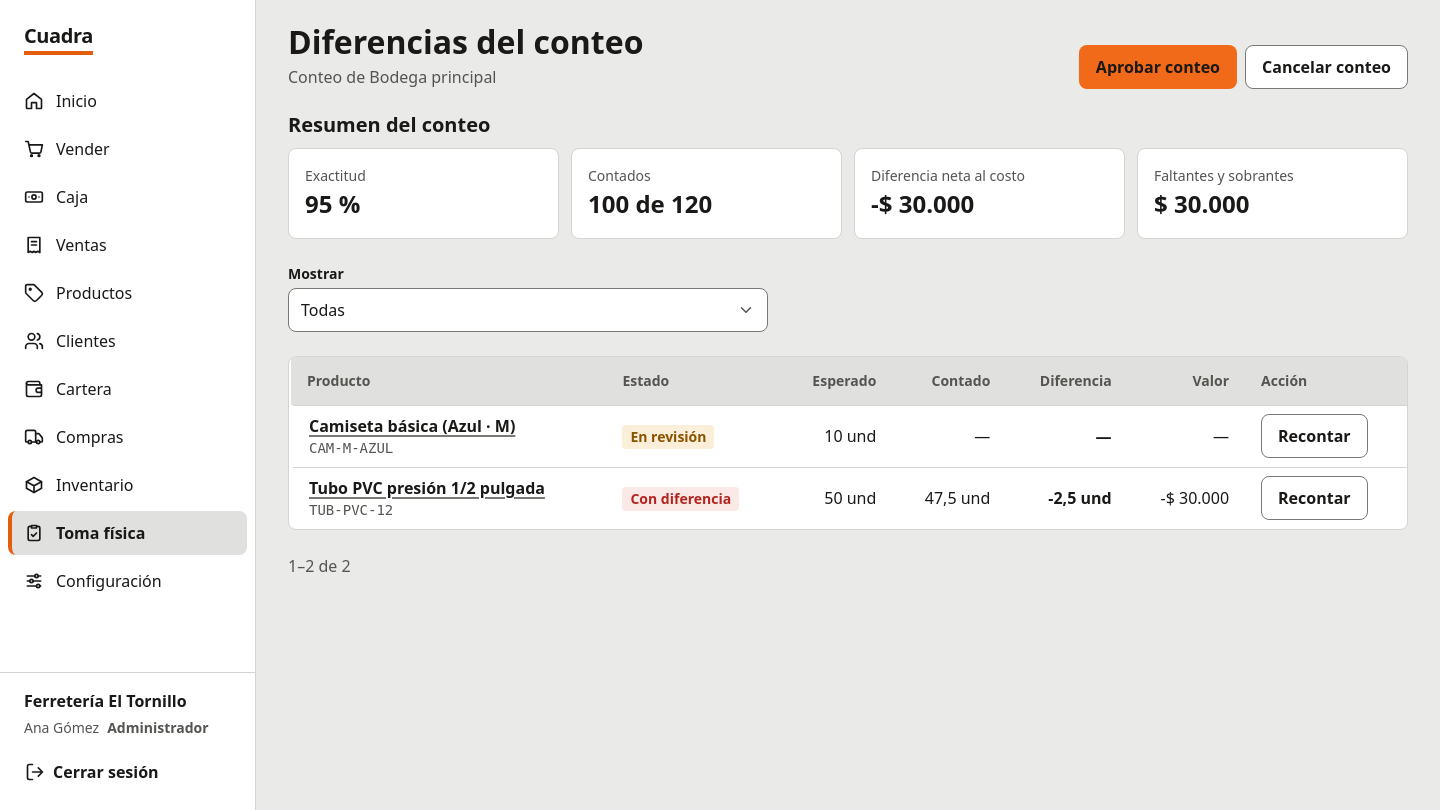
Scenario: CountReviewPage › aprobar con variantes en revisión muestra el error y no cierra
Click the button "Aprobar conteo".
click(1158, 67)  # box [1079,45,1237,89]
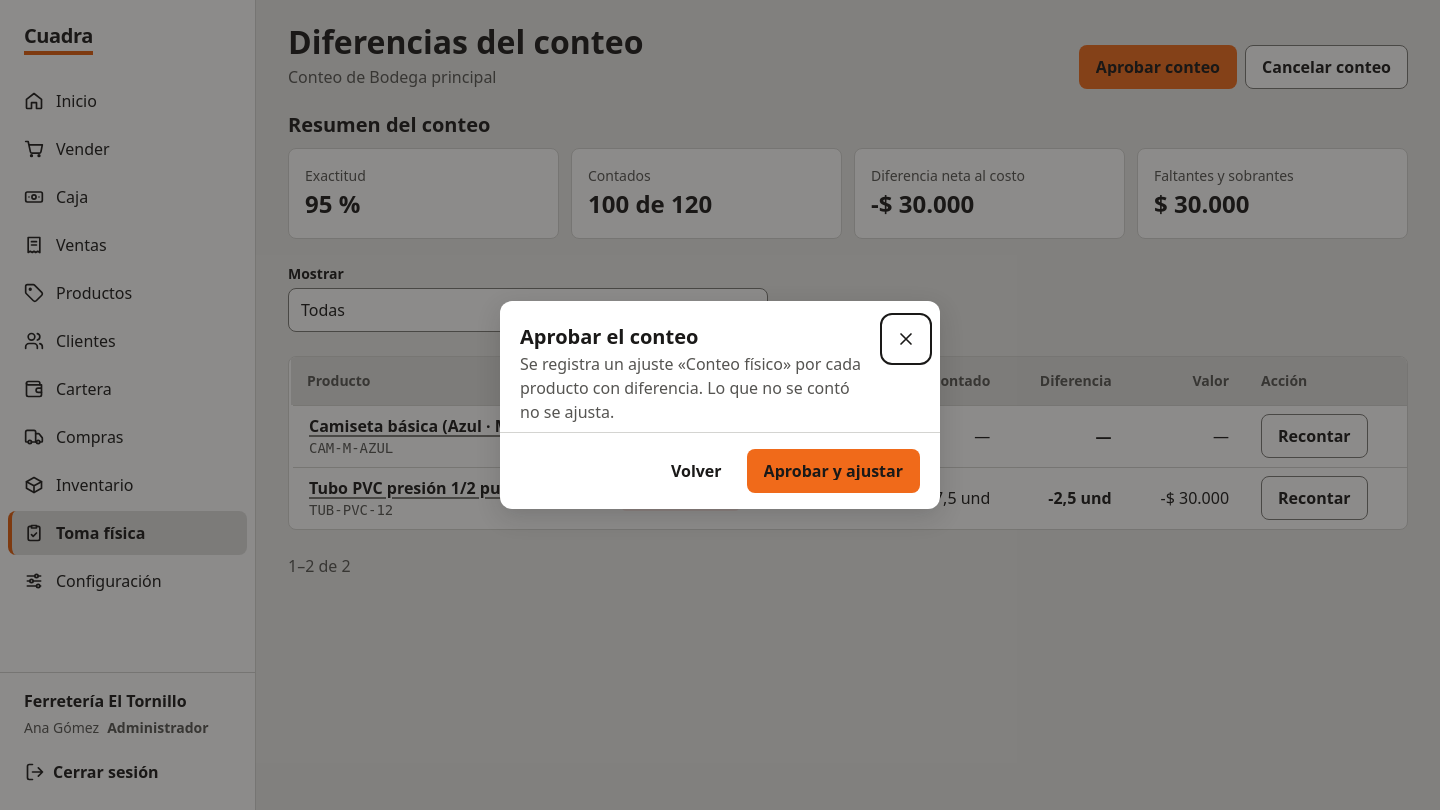
Click the button "Aprobar y ajustar".
click(833, 471)  # box [747,449,920,493]
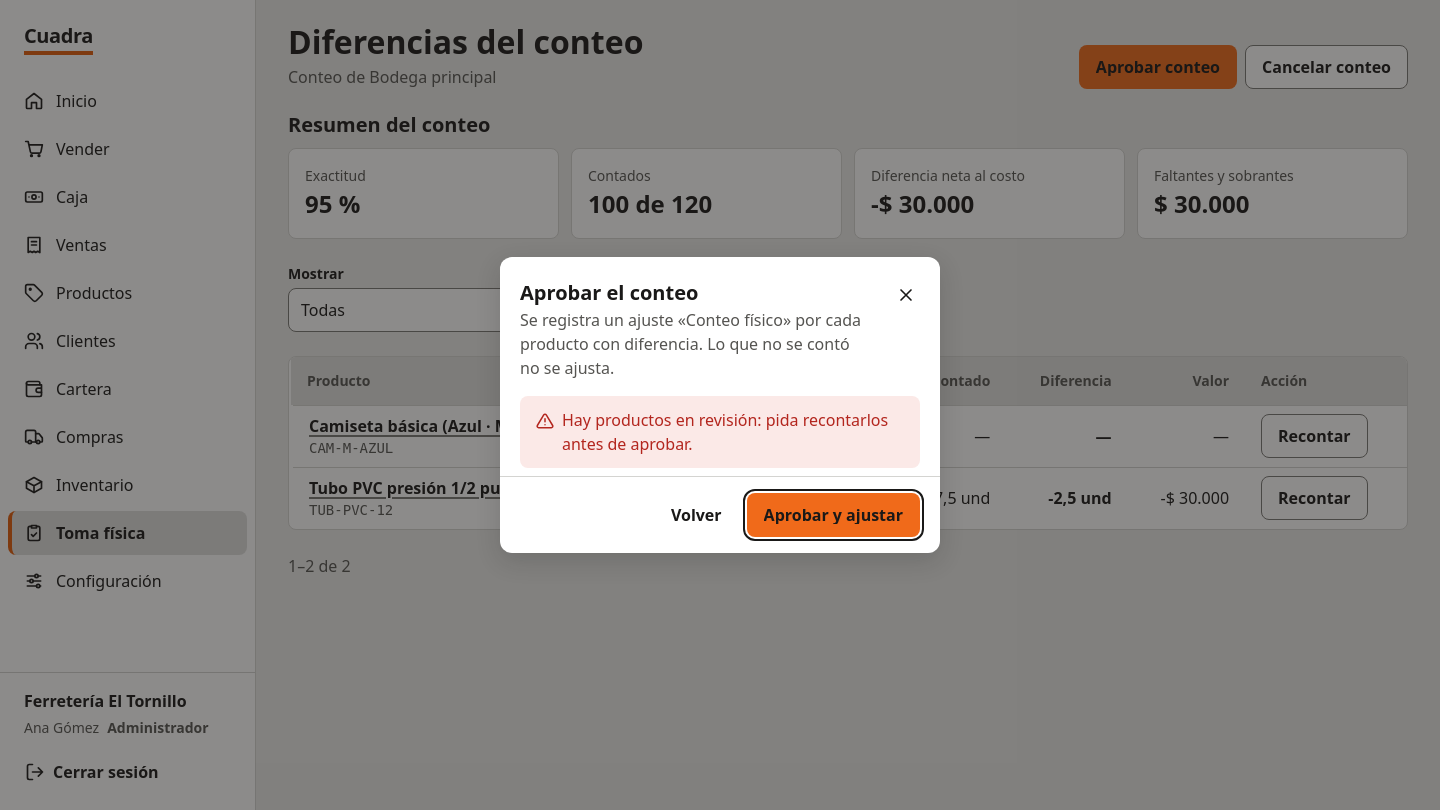
Now the dialog "Aprobar el conteo" is shown, box [500,257,940,553]
Now the text "Hay productos en revisión: pida recontarlos antes de aprobar." is shown, box [562,408,904,456]
